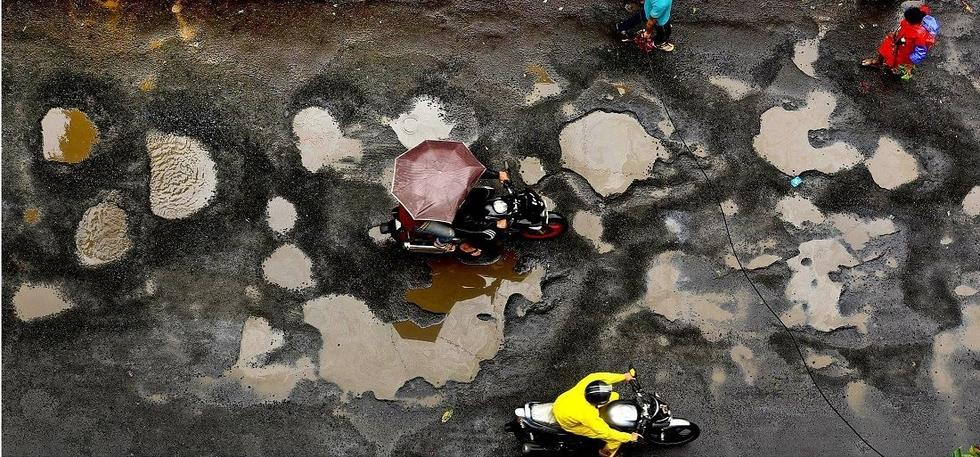pothole: (653, 199, 894, 365), (319, 264, 578, 393), (552, 106, 683, 201), (742, 82, 857, 177), (137, 116, 234, 223), (268, 81, 367, 183), (212, 316, 303, 407), (33, 82, 106, 171), (70, 185, 131, 278), (860, 136, 939, 203), (390, 84, 477, 140), (7, 276, 80, 327), (570, 199, 629, 260), (246, 243, 315, 294), (250, 187, 319, 231)
